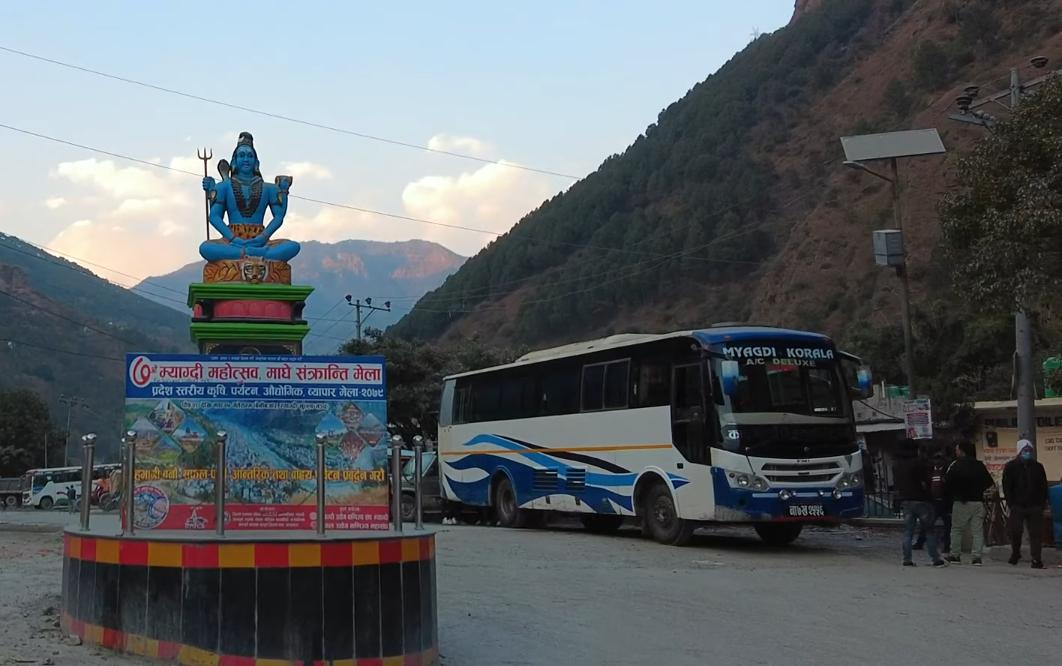bus: (440, 305, 868, 543)
